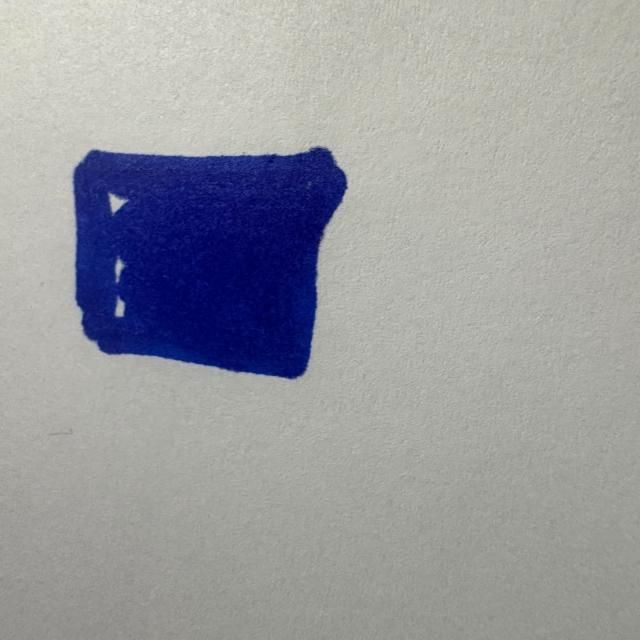Square: (74, 148, 347, 379)
